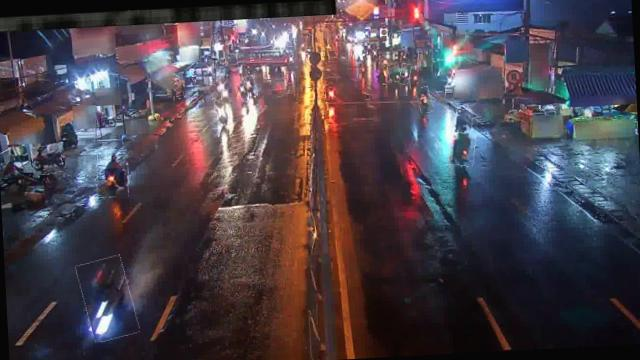Bike: (79, 256, 137, 342), (96, 148, 130, 198), (448, 127, 477, 166), (31, 144, 62, 176), (215, 98, 232, 126), (453, 108, 472, 133), (416, 86, 432, 113), (325, 77, 338, 102), (235, 81, 250, 102), (409, 66, 421, 90), (398, 62, 411, 84), (388, 62, 402, 82), (245, 74, 257, 96), (216, 75, 226, 91), (220, 86, 230, 100)
